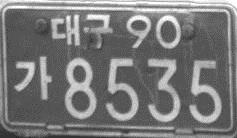0: (153, 14, 181, 48)
3: (146, 56, 181, 121)
5: (188, 57, 222, 124), (104, 57, 139, 122)
8: (63, 57, 96, 121)
9: (124, 13, 152, 48)
가: (12, 55, 53, 102)
대구_O: (49, 11, 113, 49)
